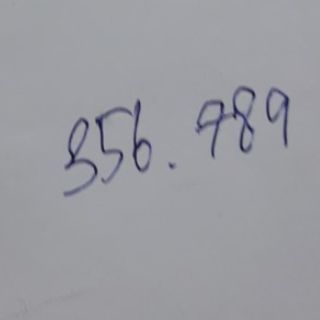.: (165, 157, 180, 171)
3: (56, 108, 99, 198)
5: (96, 100, 133, 192)
6: (131, 94, 153, 175)
8: (231, 83, 258, 153)
9: (192, 94, 226, 160), (263, 84, 294, 149)
